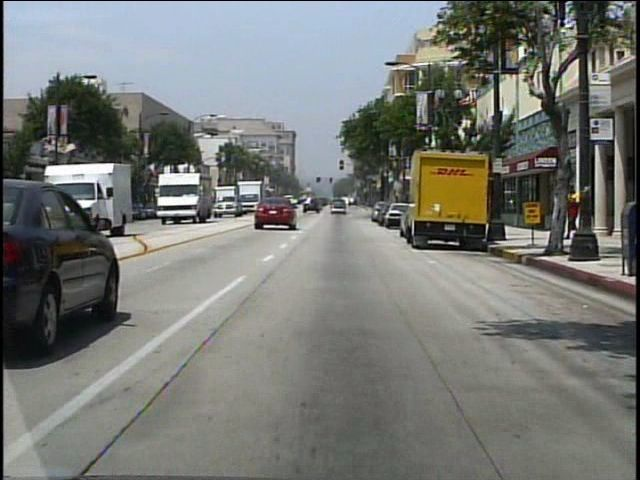person: (562, 182, 583, 241)
